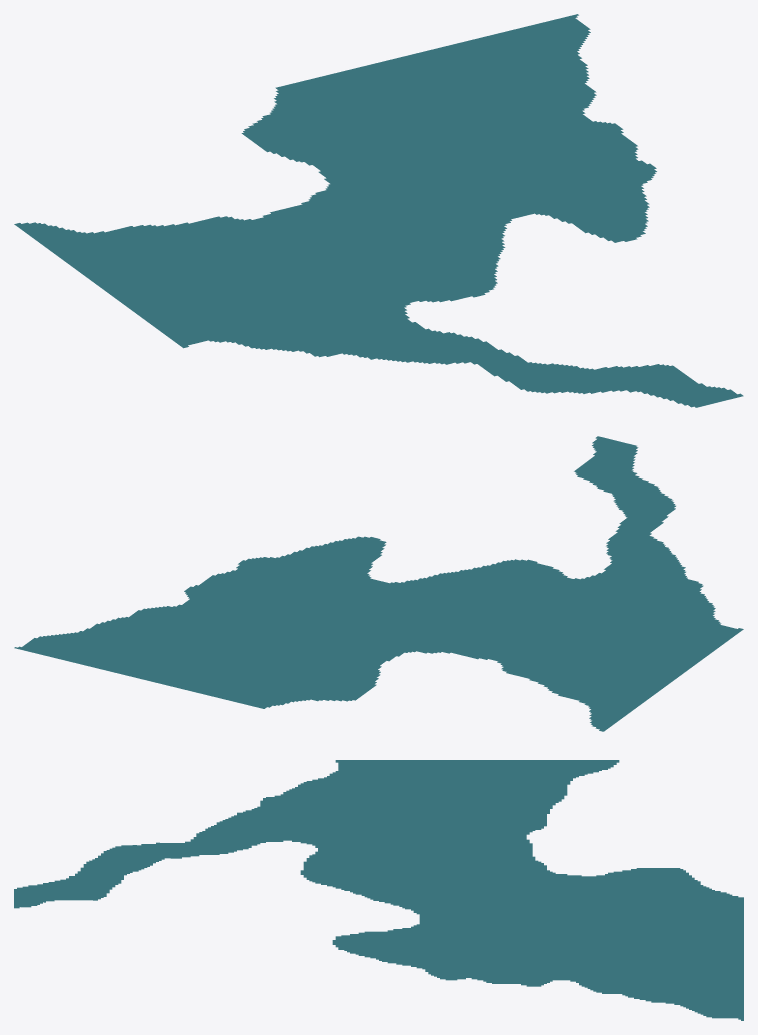
Rendered from eau-reference-0-2.glb.
3 views of the same model, one above another, from view 1: azimuth 30°, elevation 25°; view 2: azimuth 150°, elevation 25°; view 3: azimuth 270°, elevation 25° (orthographic). The views are drawn at different scales.
Visible parts, largest first — view 1: eau-reference-0-2; view 2: eau-reference-0-2; view 3: eau-reference-0-2.
Boxes of the visible parts, left/top/right/bottom form: eau-reference-0-2: left=14, top=14, right=743, bottom=407; eau-reference-0-2: left=14, top=436, right=743, bottom=731; eau-reference-0-2: left=14, top=760, right=743, bottom=1020.
Bounding box in the file's own units: 852 × 3.59 × 1008.
